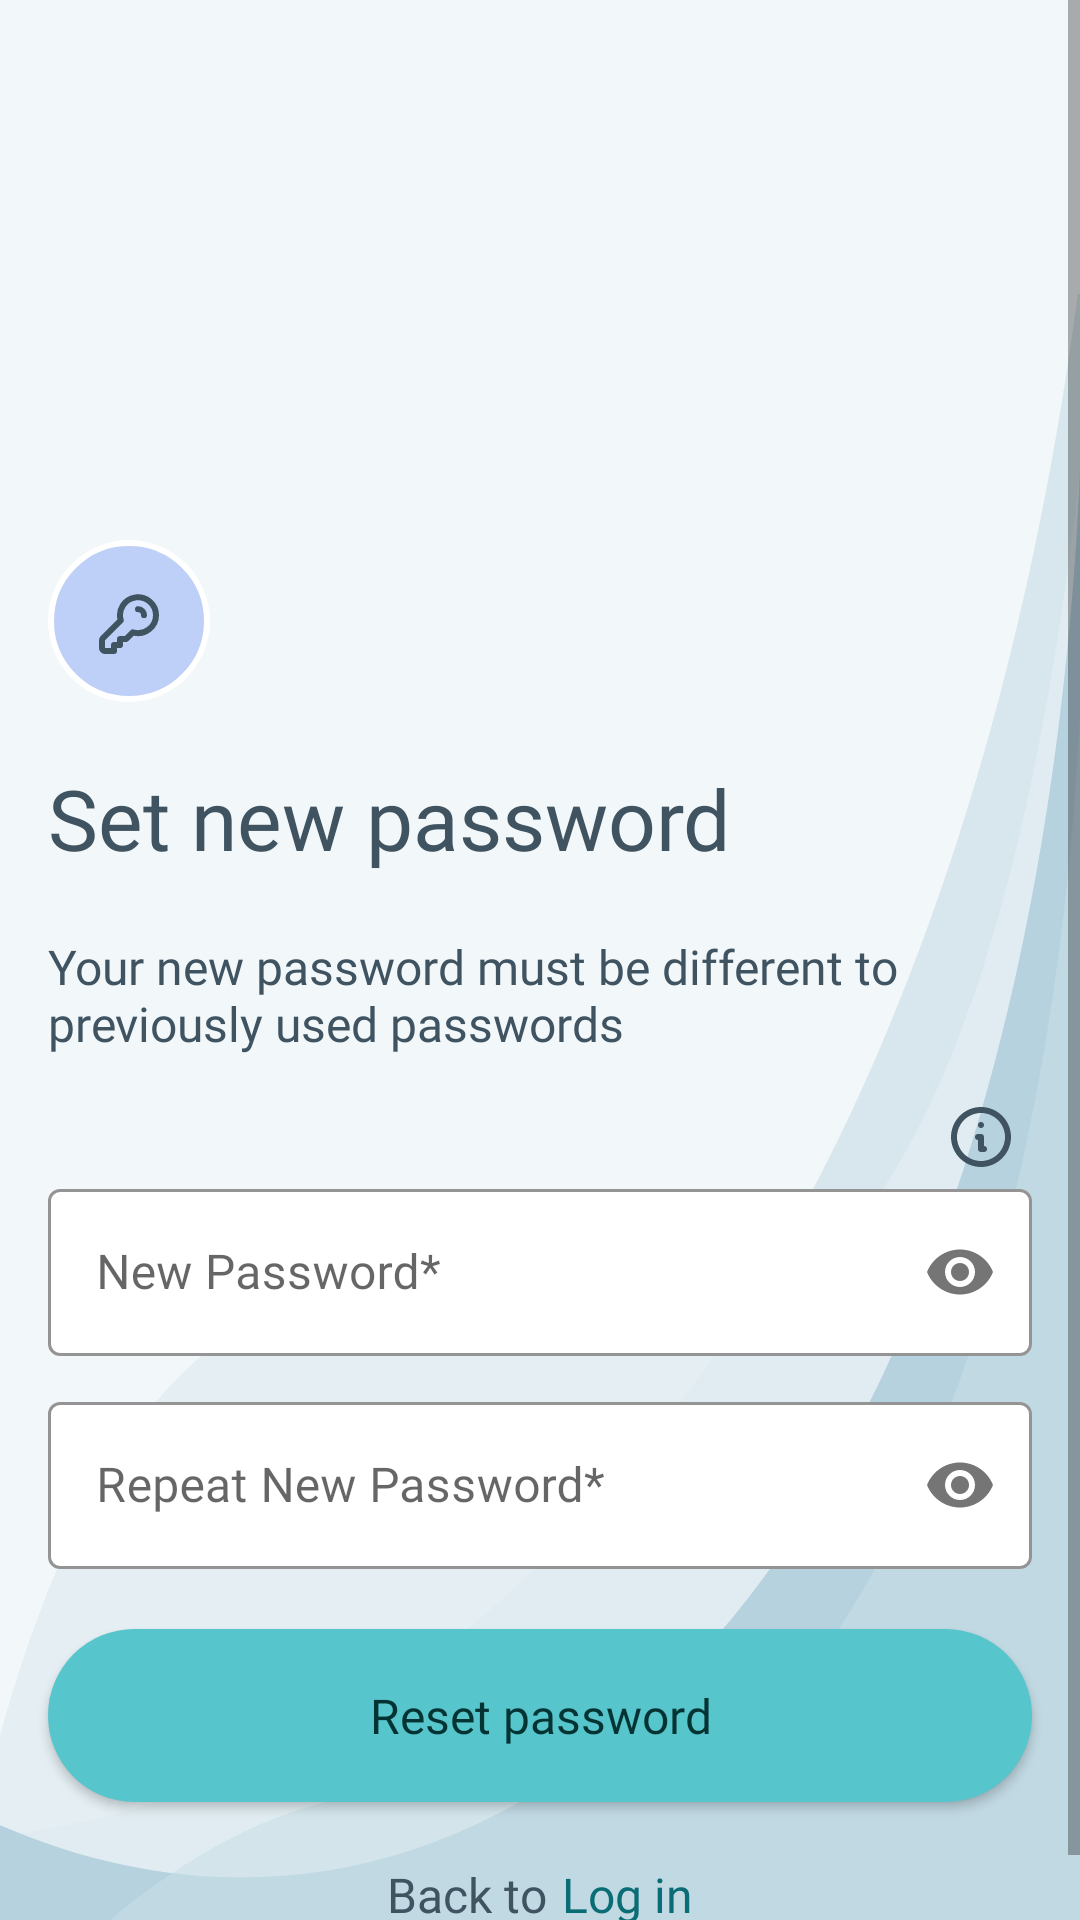

Named icons in this screenshot (1080×1920) and their centers, (x,y):
forgot password: (129,621)
information circle: (981,1137)
